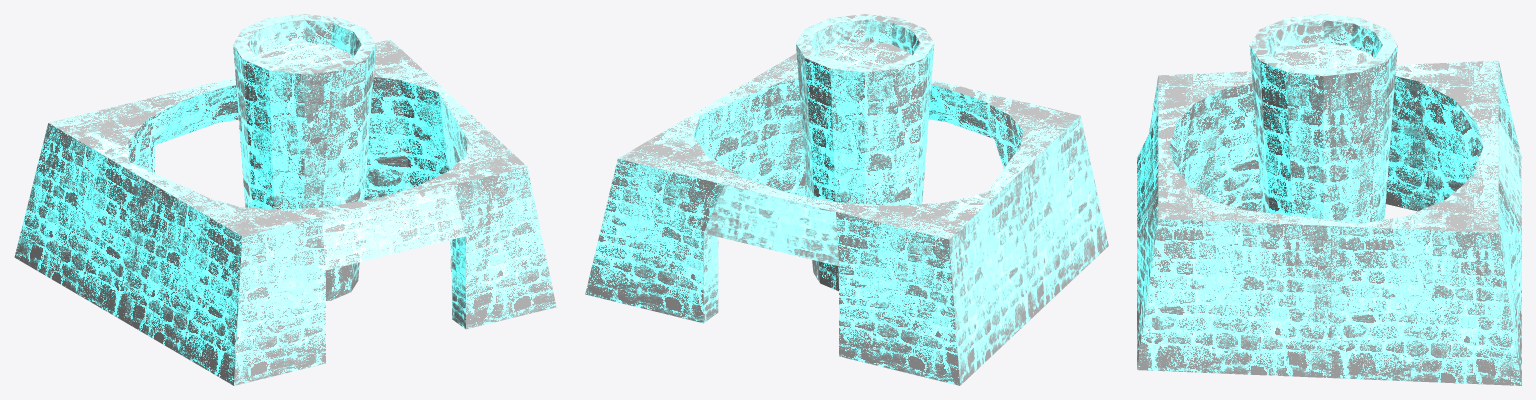
File: castle_outpost_v2.glb
3 views of the same model, side by side, from view 1: azimuth 30°, elevation 25°; view 2: azimuth 150°, elevation 25°; view 3: azimuth 270°, elevation 25° (orthographic). The views are drawn at different scales.
Visible parts, largest first — view 1: castle_outpost2; view 2: castle_outpost2; view 3: castle_outpost2.
Boxes of the visible parts, x1,y1,x2,y2 form: castle_outpost2: (14,14,556,385); castle_outpost2: (585,14,1108,385); castle_outpost2: (1137,14,1521,385).
Bounding box in the file's own units: 14.15 × 8.26 × 11.81.
